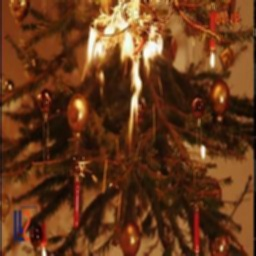fire: (85, 14, 165, 86)
